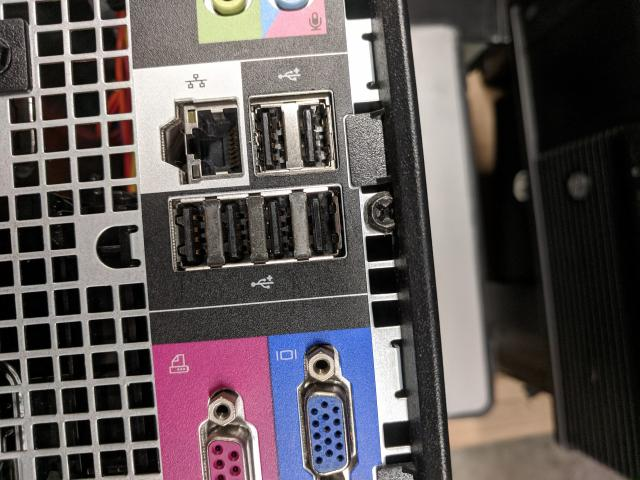CRS: (366, 191, 400, 230)
